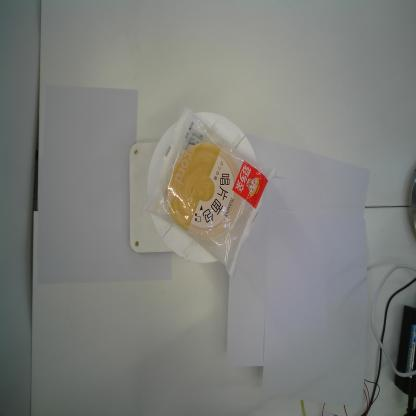Dessert: (134, 102, 278, 280)
